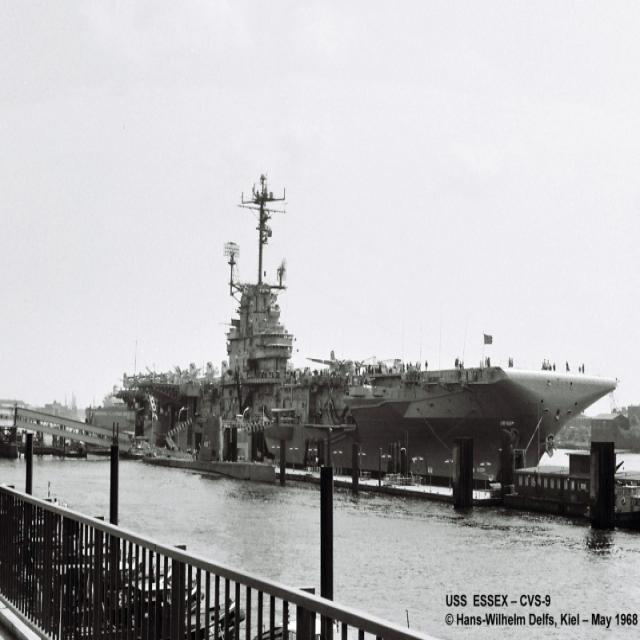Portanaves: (112, 160, 623, 507)
